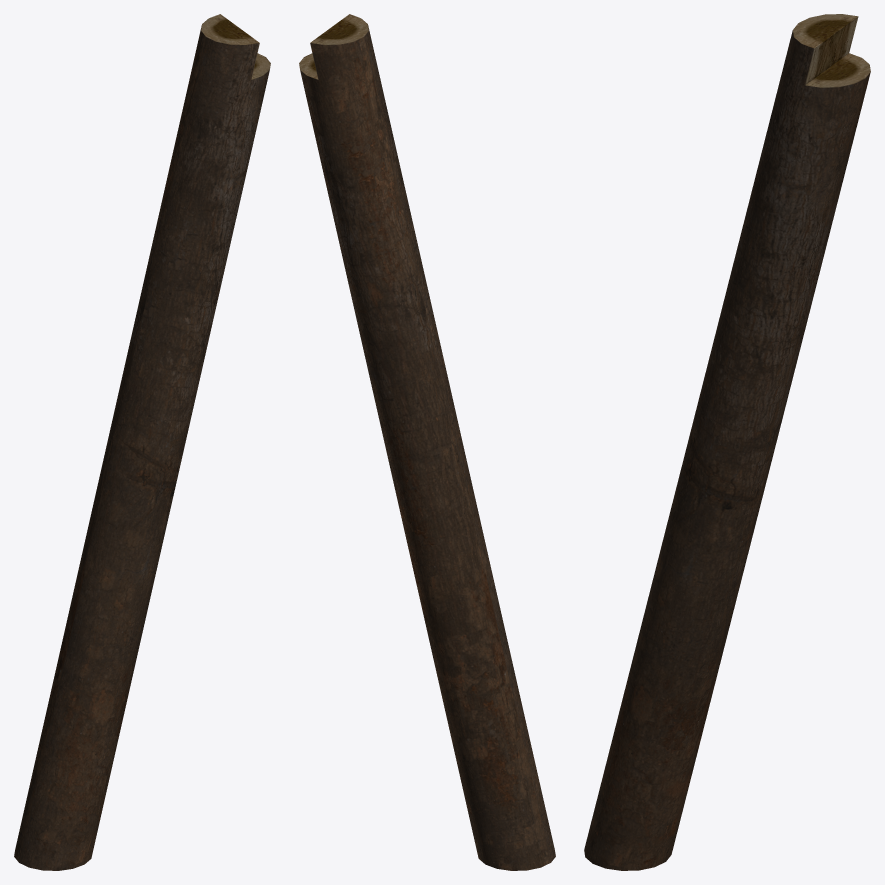
Rendered from piece.obj.
3 views of the same model, side by side, from view 1: azimuth 30°, elevation 25°; view 2: azimuth 150°, elevation 25°; view 3: azimuth 330°, elevation 25° (orthographic). The views are drawn at different scales.
Parts seen in each view (by area): view 1: ThreeSupportAB; view 2: ThreeSupportAB; view 3: ThreeSupportAB.
Part boxes in pixels (<box>): ThreeSupportAB: <box>14,14,270,870</box>; ThreeSupportAB: <box>299,14,555,870</box>; ThreeSupportAB: <box>584,14,870,870</box>.
Size of the model in its own units: 0.7222 by 2.18 by 0.2001.
Materials: 1 (1 with a texture image).
